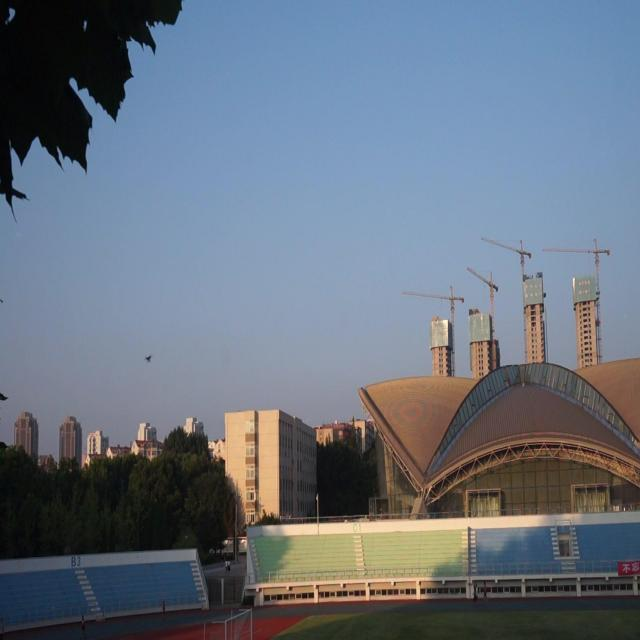UAV: (144, 354, 153, 364)
